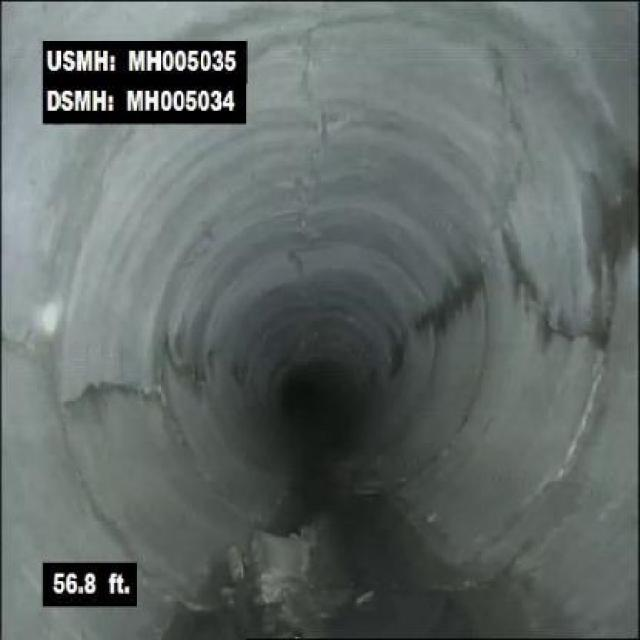Crack: (500, 245, 611, 349), (482, 38, 538, 211), (289, 15, 342, 140), (55, 374, 157, 415)
Debris: (208, 517, 328, 632)
